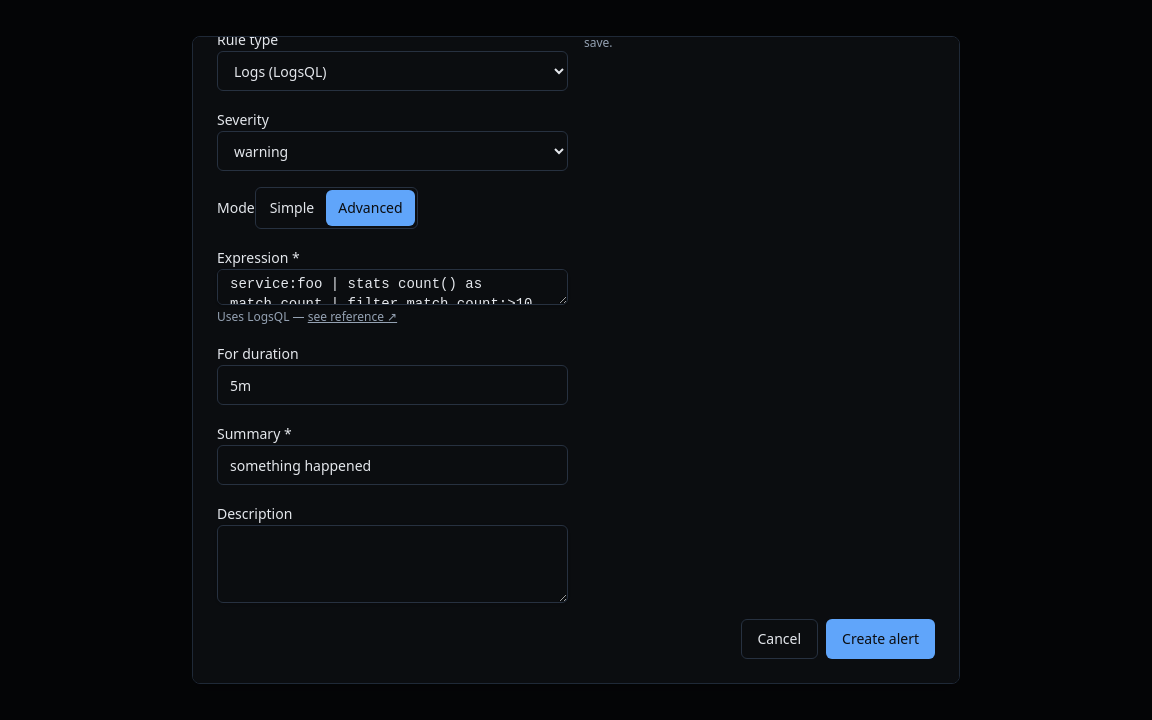
CreateAlertModal › on 400 invalid_rule shows inline form error and keeps modal open
(page scrolled)
What coordinates should you click on to do the following:
click the button with test id "create-alert-submit"
I would click on:
 (881, 639)
Its box is [826, 619, 935, 659].
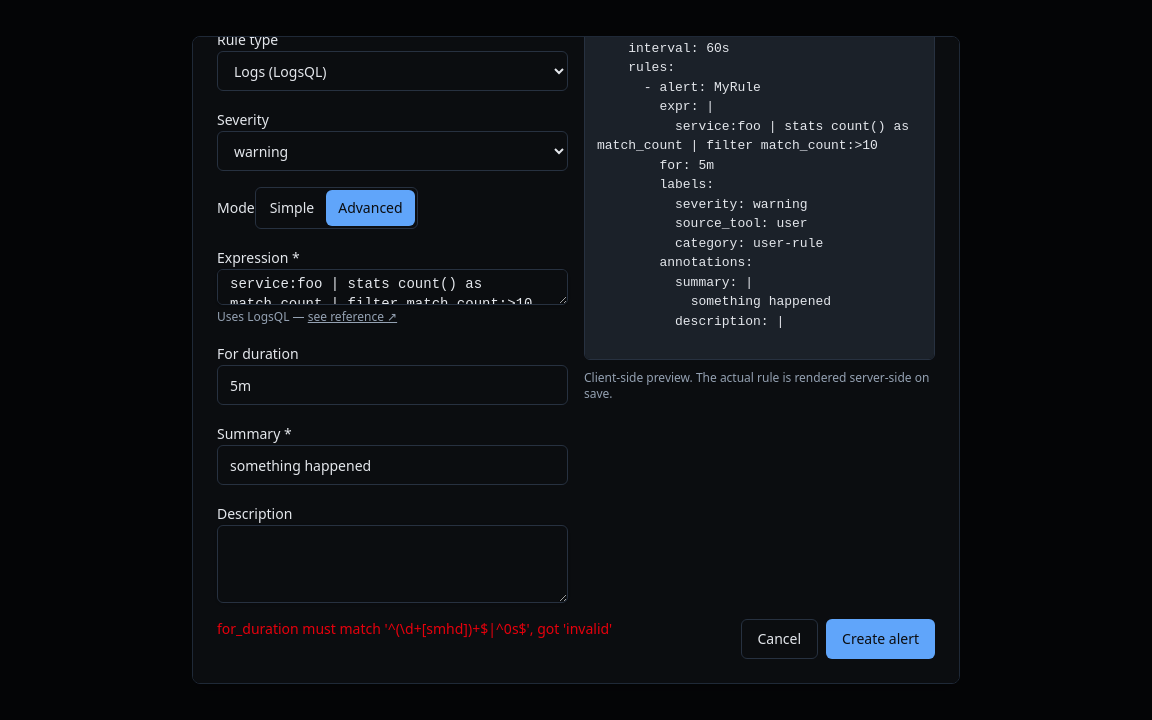
Expected: the message with test id "create-alert-form-error" shows "for_duration must match", [217, 619, 612, 638]
